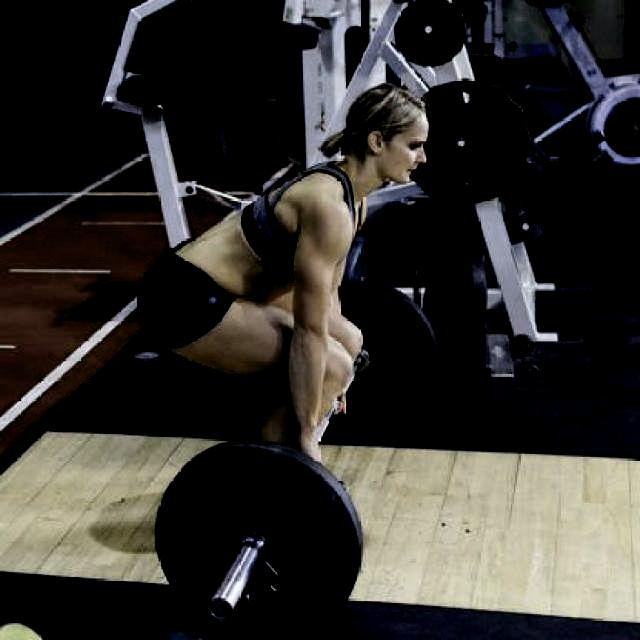barbell: (153, 445, 360, 640)
